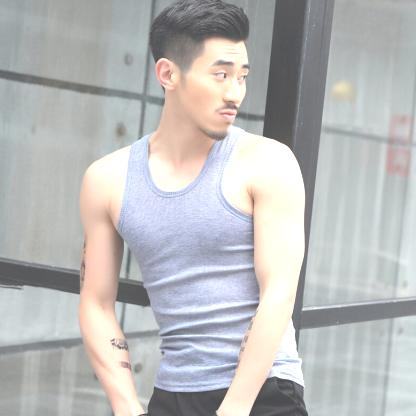jacket: (119, 125, 308, 391)
